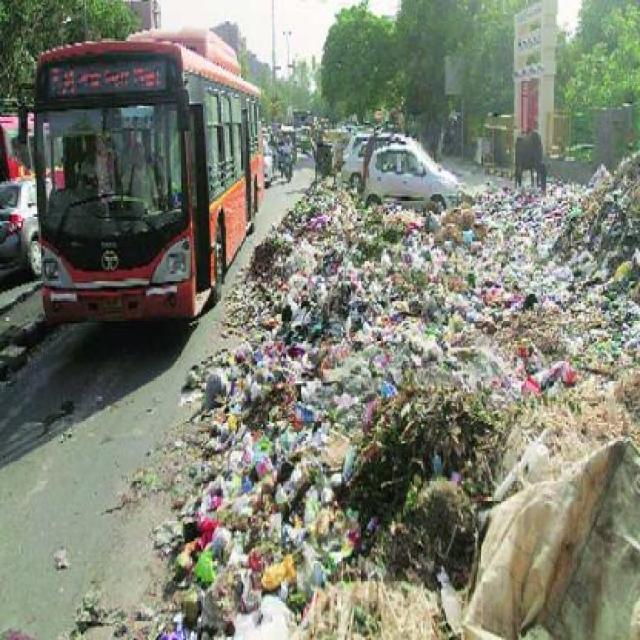garbage: (215, 317, 512, 638), (274, 181, 640, 344)
